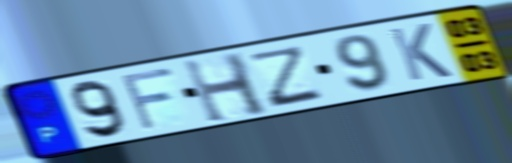9: (335, 31, 393, 95), (71, 78, 128, 140)
F: (118, 64, 178, 134)
H: (179, 50, 274, 126)
K: (385, 21, 456, 84)
Z: (250, 42, 326, 110)
